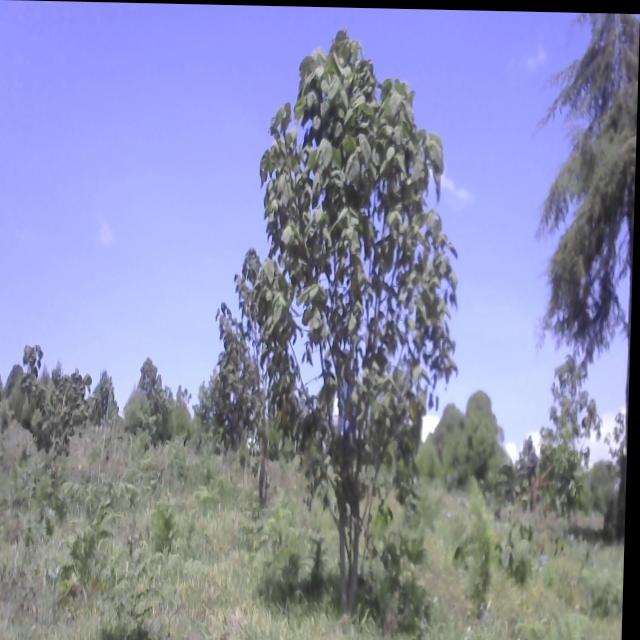cedrus: (538, 10, 640, 362)
other: (240, 36, 471, 602), (5, 335, 114, 467), (209, 273, 276, 457)
